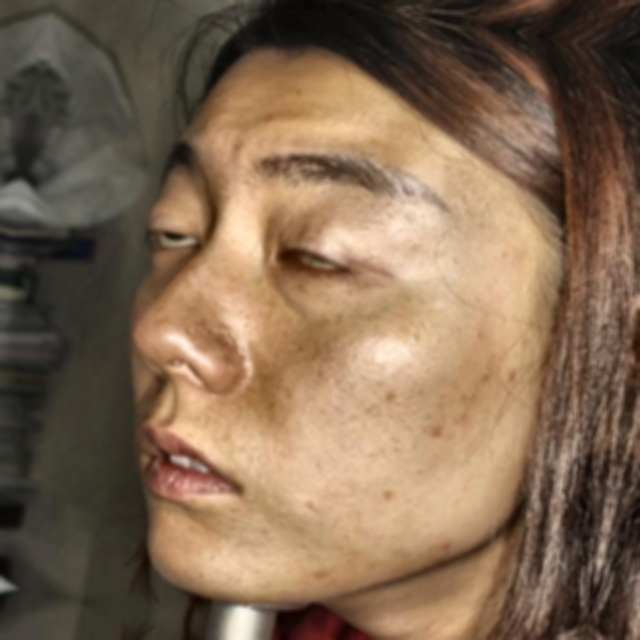comedone: (298, 556, 340, 600), (436, 533, 456, 569)
